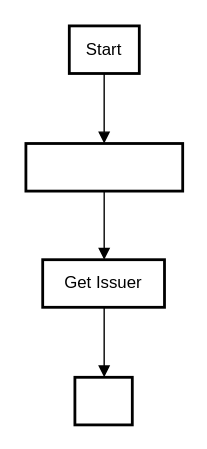
Some shapes in this 207 by 449 pixel diagram are drawn without their labels. The shapes that lost their labels are listed below. From the top down, each one's box as (x1, y1, x2, y2) in pixels, then its label:
(24, 141, 183, 192): Validate Card
(73, 375, 133, 426): End
